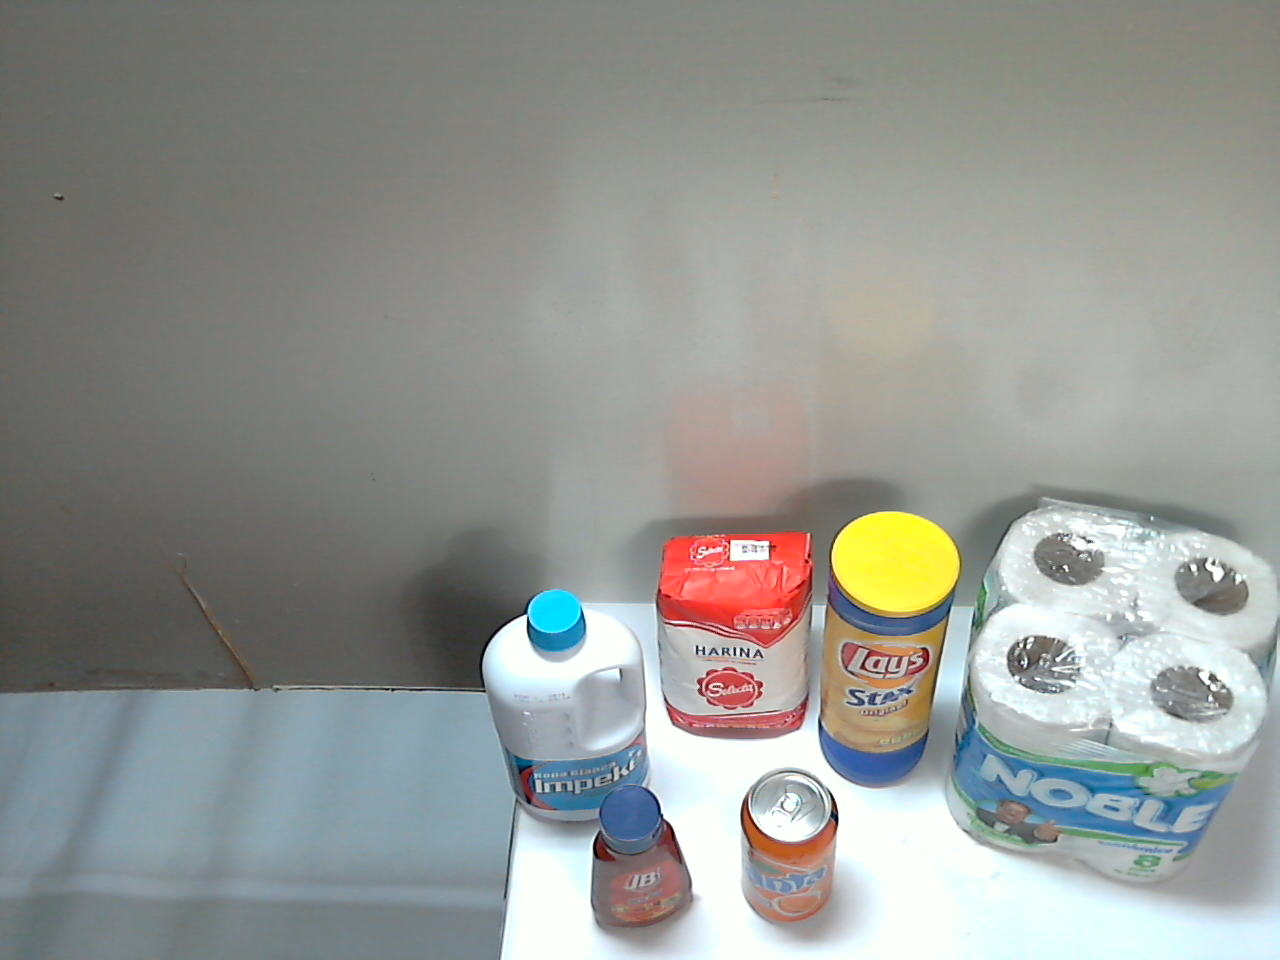balsamo: (795, 519, 908, 750)
coca: (798, 720, 898, 913)
confort: (914, 501, 1223, 889)
jugoind: (537, 723, 640, 873)
lata: (703, 642, 803, 816)
yogurt: (578, 487, 712, 781)
